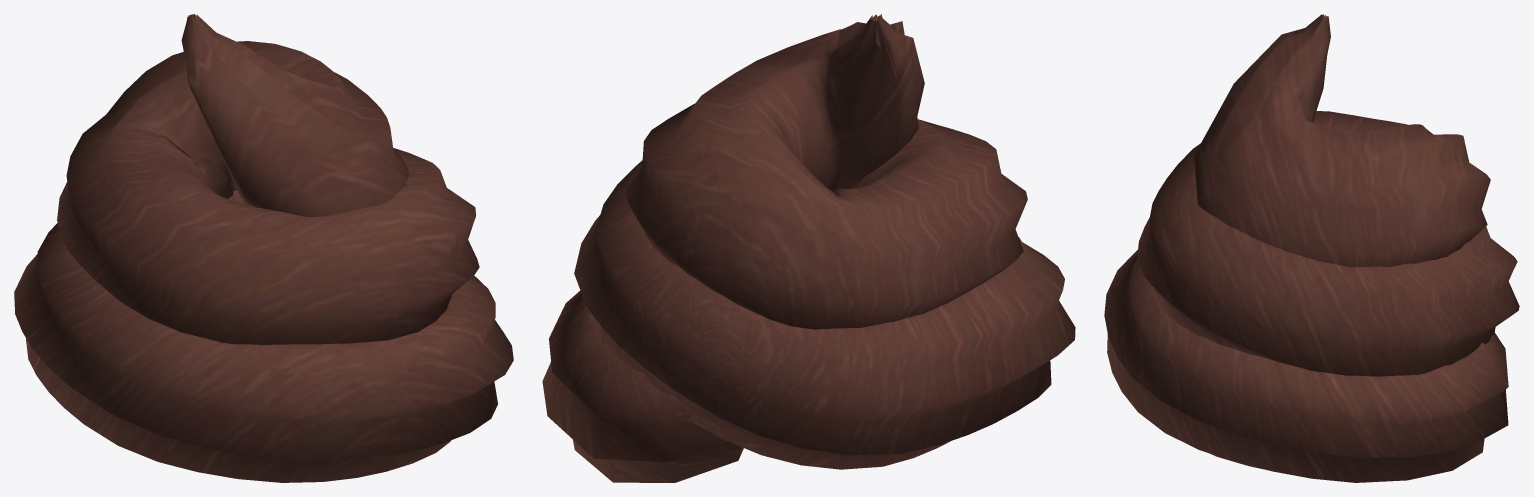
Rendered from icacream.fbx.
The picture shows the model from 3 angles, left to right: view 1: azimuth 30°, elevation 25°; view 2: azimuth 150°, elevation 25°; view 3: azimuth 270°, elevation 25°; orthographic projection. The views are drawn at different scales.
Parts seen in each view (by area): view 1: Cylinder001; view 2: Cylinder001; view 3: Cylinder001.
Boxes of the visible parts, x1,y1,x2,y2 form: Cylinder001: (14,14,513,482); Cylinder001: (542,14,1075,482); Cylinder001: (1104,14,1519,482).
Bounding box in the file's own units: 91.68 × 87.23 × 87.44.
1 material, 1 textured.
